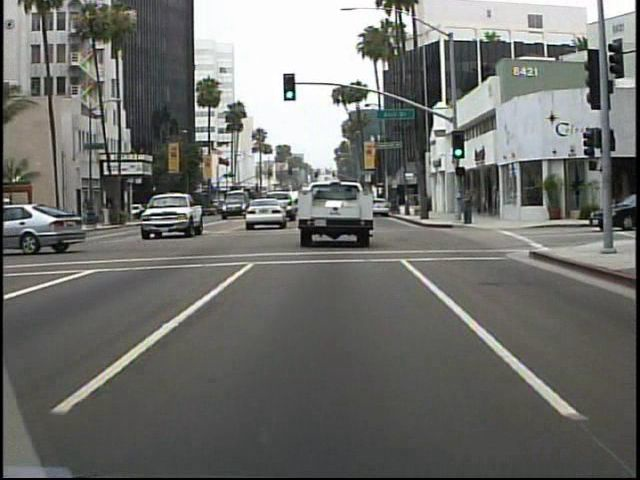person: (459, 181, 477, 228)
